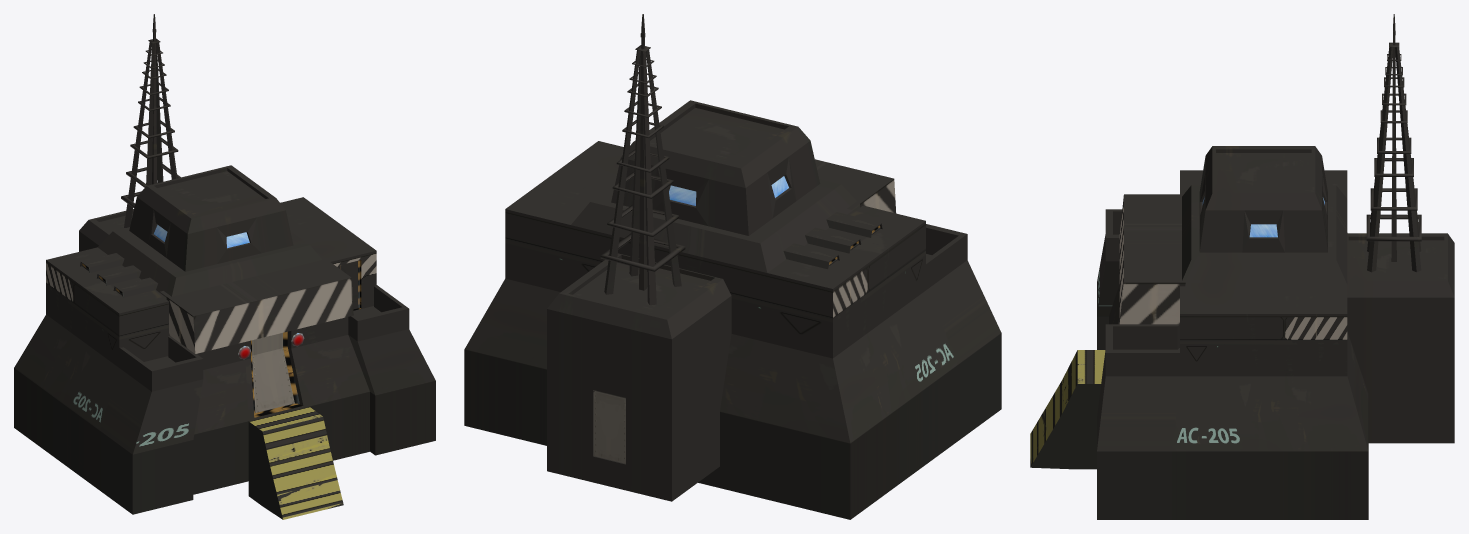
3 renders of one model, left to right at view 1: azimuth 30°, elevation 25°; view 2: azimuth 150°, elevation 25°; view 3: azimuth 270°, elevation 25°, orthographic. The views are drawn at different scales.
Parts seen in each view (by area): view 1: comand_center; view 2: comand_center; view 3: comand_center.
Part boxes in pixels (bbox=[...]): comand_center: bbox=[14, 14, 435, 519]; comand_center: bbox=[464, 14, 1001, 519]; comand_center: bbox=[1030, 14, 1454, 519].
Size of the model in its own units: 25.23 by 26.74 by 30.48.
